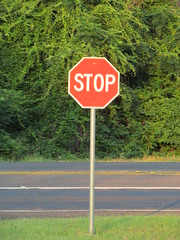StopSign: (67, 56, 119, 108)
